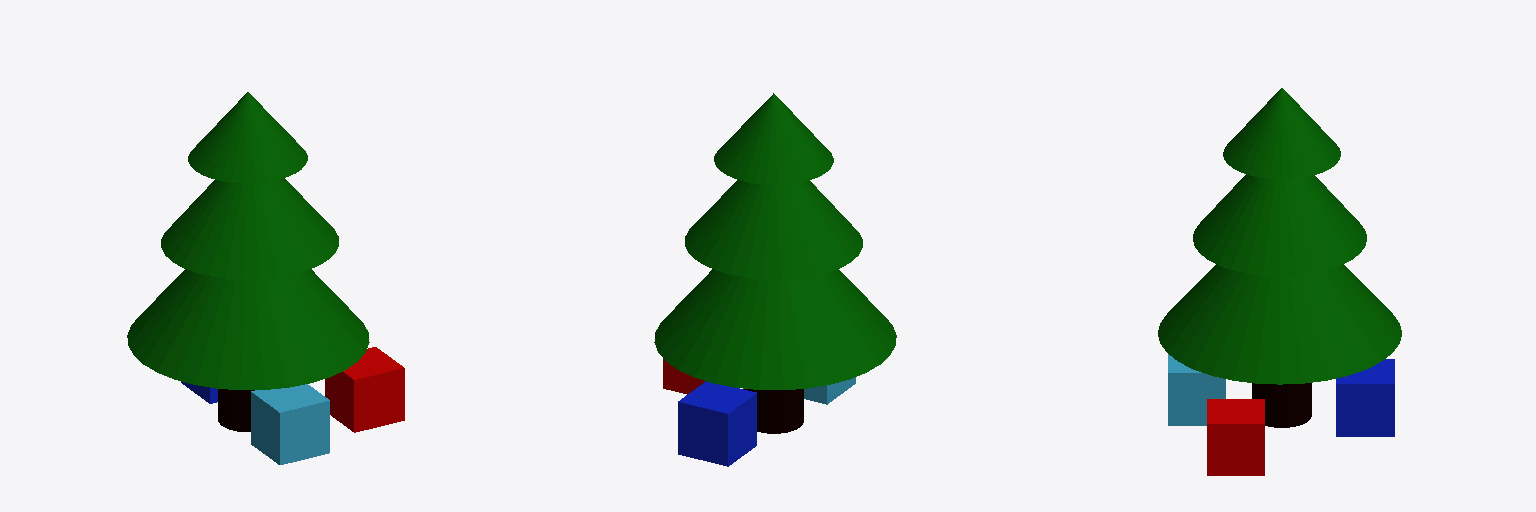
File: sapin.obj
3 views of the same model, side by side, from view 1: azimuth 30°, elevation 25°; view 2: azimuth 150°, elevation 25°; view 3: azimuth 270°, elevation 25° (orthographic).
Parts seen in each view (by area): view 1: Cylinder, Cube, Cube.002, Cylinder.001; view 2: Cylinder, Cube.001, Cylinder.001, Cube.002, Cube; view 3: Cylinder, Cube.002, Cube.001, Cube, Cylinder.001.
Boxes of the visible parts, x1,y1,x2,y2 form: Cylinder: [127, 92, 369, 389]; Cube: [251, 384, 329, 464]; Cube.002: [325, 347, 404, 432]; Cylinder.001: [218, 389, 254, 431]; Cylinder: [654, 93, 896, 389]; Cube.001: [678, 381, 756, 466]; Cylinder.001: [744, 389, 803, 433]; Cube.002: [663, 359, 705, 394]; Cube: [804, 377, 855, 404]; Cylinder: [1158, 88, 1401, 384]; Cube.002: [1207, 399, 1264, 475]; Cube.001: [1336, 359, 1394, 436]; Cube: [1168, 354, 1225, 425]; Cylinder.001: [1252, 383, 1311, 427].
Bounding box in the file's own units: 2.61 × 3.67 × 2.46.